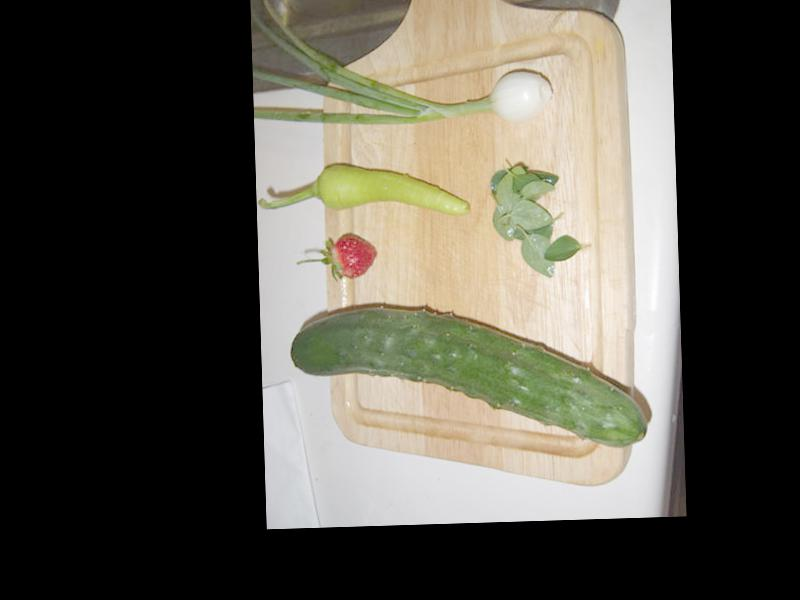Cucumber: (290, 298, 647, 457)
